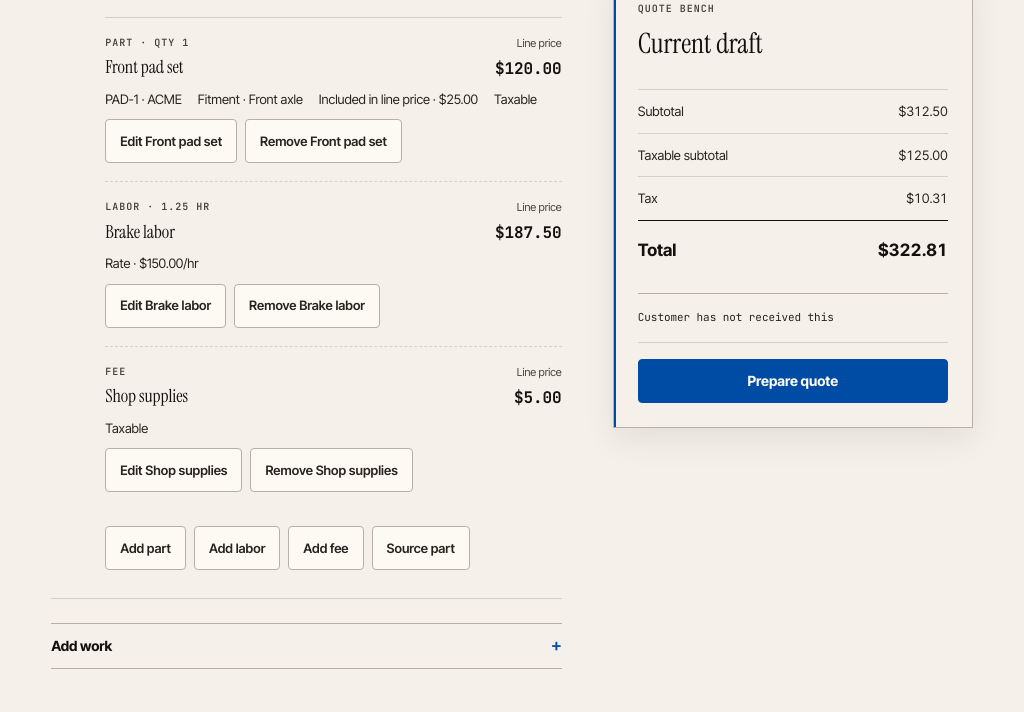
it: ManualQuoteBuilder › renders current work before one honest Add work disclosure
(page scrolled)
Expected: the element "Add repair" is not shown
Expected: the element "Add diagnostic time" is not shown
Click the heading "Add work".
click(82, 646)  # box [51, 637, 112, 654]
(page scrolled)
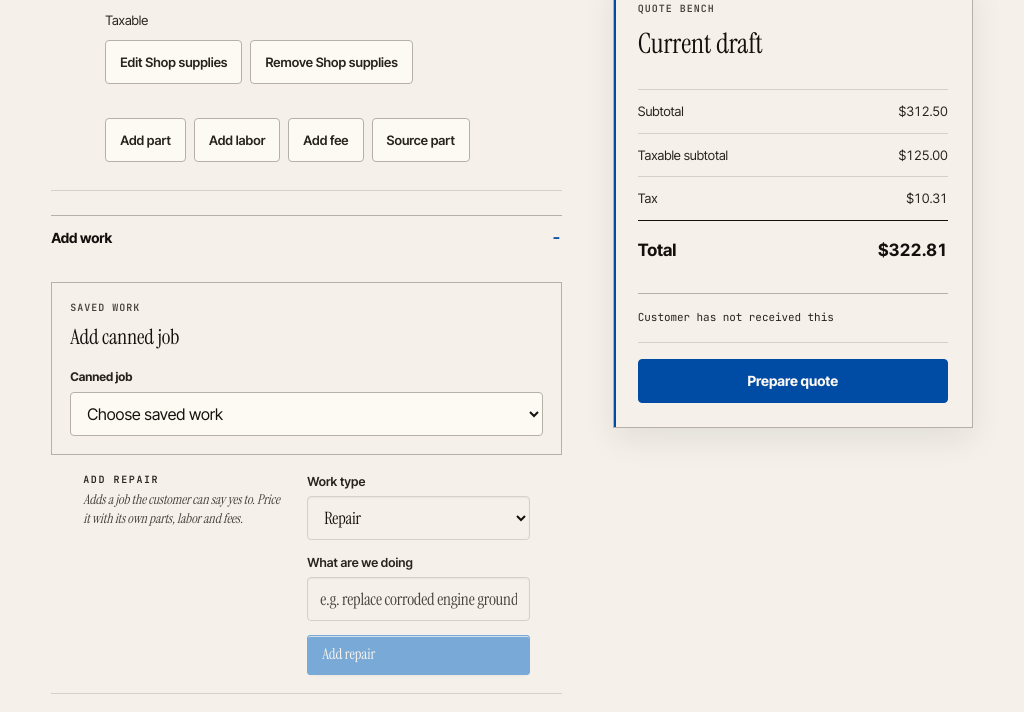
Result: the element "Add repair" is shown at [51, 455, 562, 694]
Result: the heading "Add canned job" is shown at [70, 323, 180, 351]
